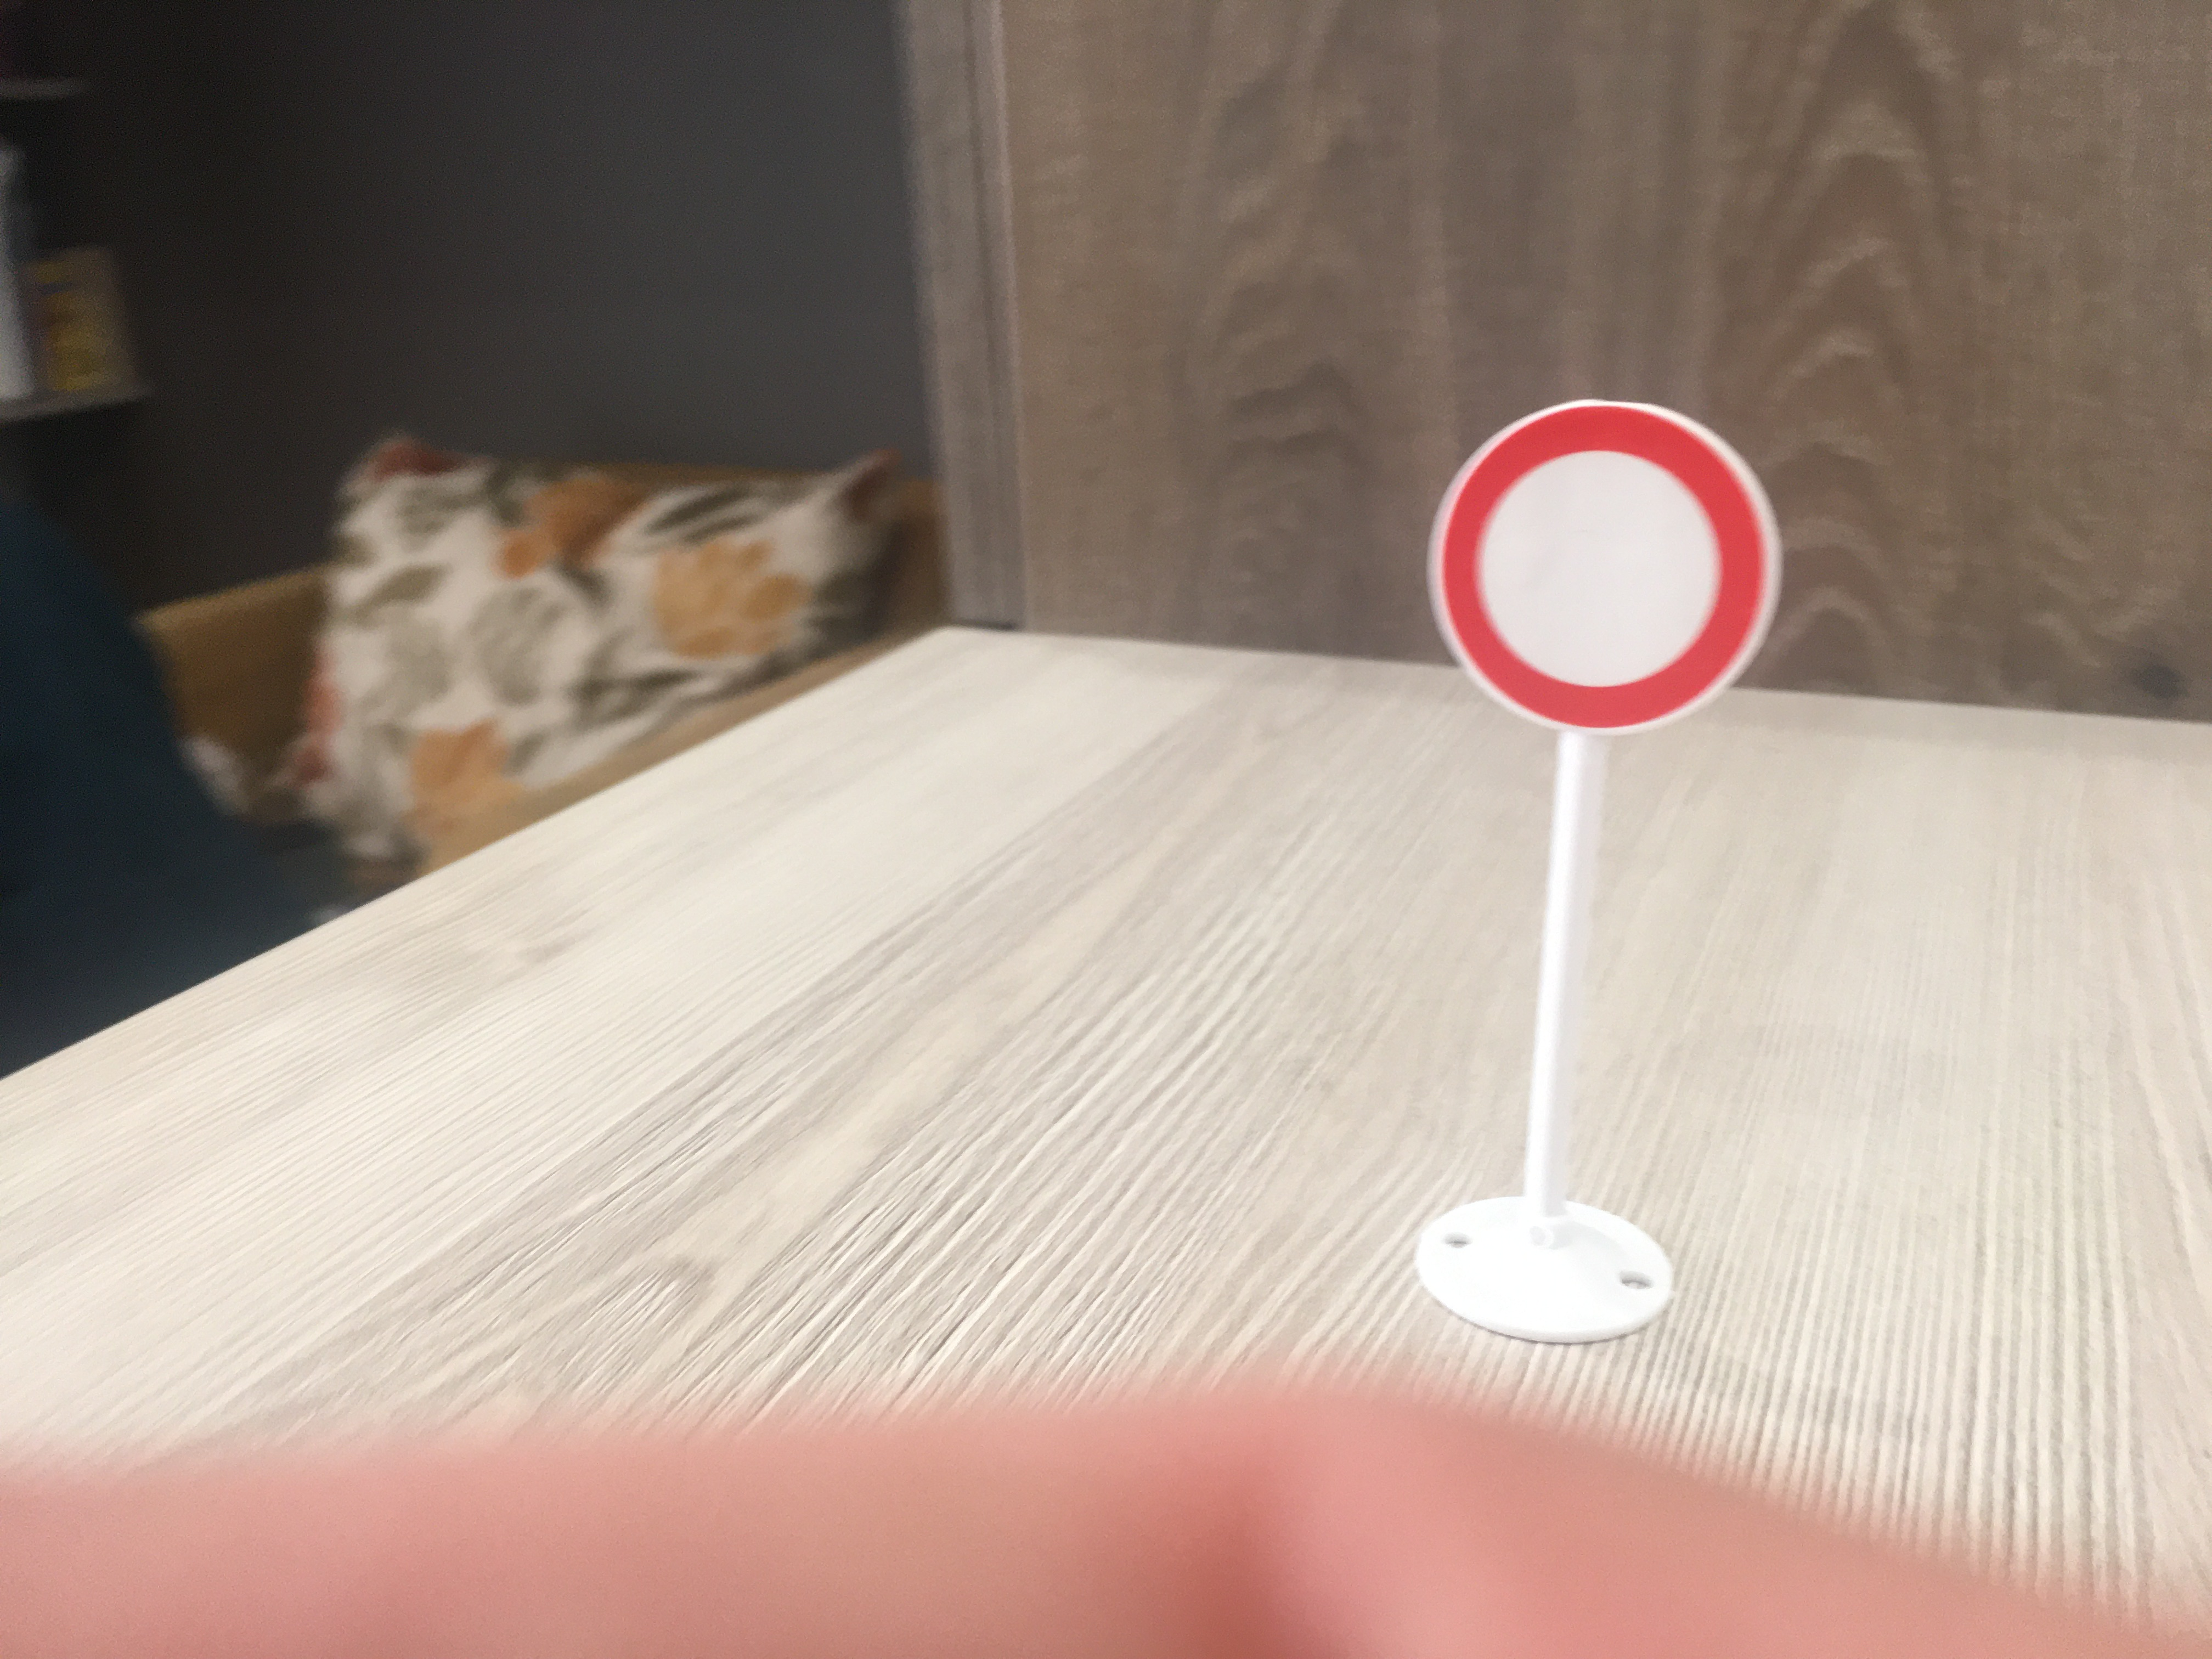noDrive: (1420, 399, 1782, 734)
